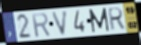2: (16, 13, 33, 40)
4: (73, 9, 86, 35)
M: (88, 7, 111, 34)
R: (30, 12, 52, 38), (108, 6, 126, 32)
V: (51, 10, 70, 37)
